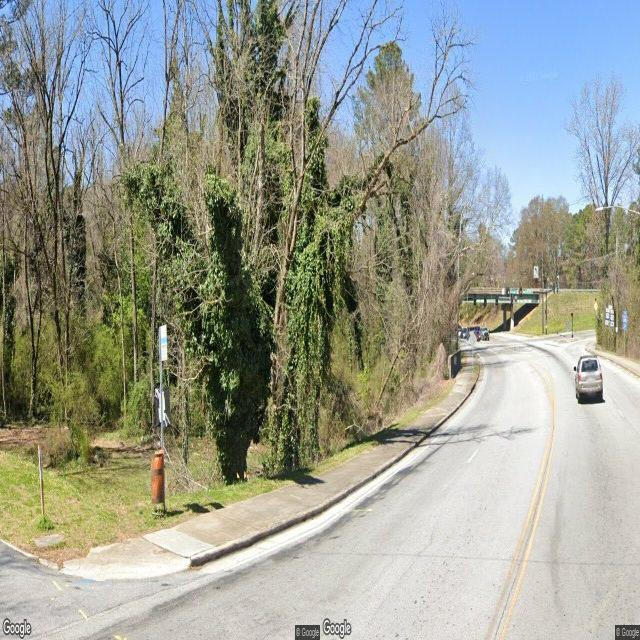trash_can: (150, 451, 164, 503)
